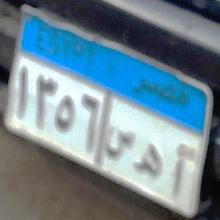1: (19, 67, 28, 119)
3: (31, 78, 55, 131)
5: (54, 94, 76, 136)
6: (78, 92, 102, 152)
alif: (168, 146, 192, 197)
haa: (136, 142, 164, 181)
seen: (102, 131, 134, 163)
